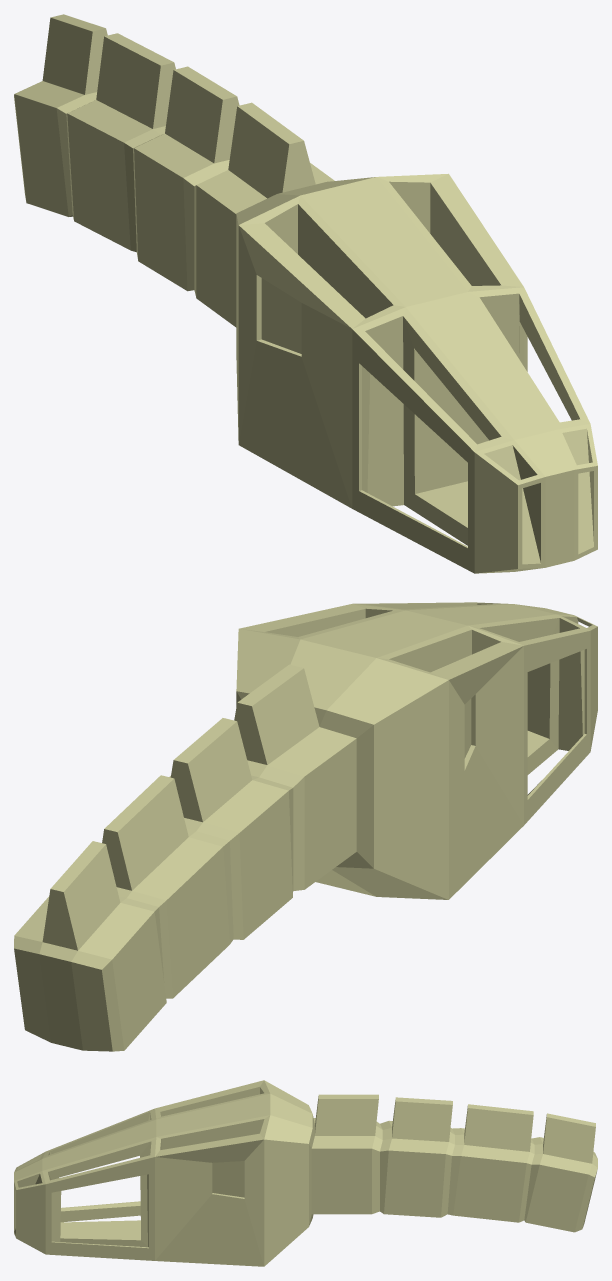
Rendered from Resource Bone.fbx.
The picture shows the model from 3 angles, top to bottom: view 1: azimuth 30°, elevation 25°; view 2: azimuth 150°, elevation 25°; view 3: azimuth 270°, elevation 25°; orthographic projection. The views are drawn at different scales.
Visible parts, largest first — view 1: Resource Bone; view 2: Resource Bone; view 3: Resource Bone.
Part boxes in pixels (x1,y1,x2,y2): Resource Bone: (14,14,597,573); Resource Bone: (14,602,597,1051); Resource Bone: (14,1080,597,1266).
Size of the model in its own units: 101 by 115 by 419.
